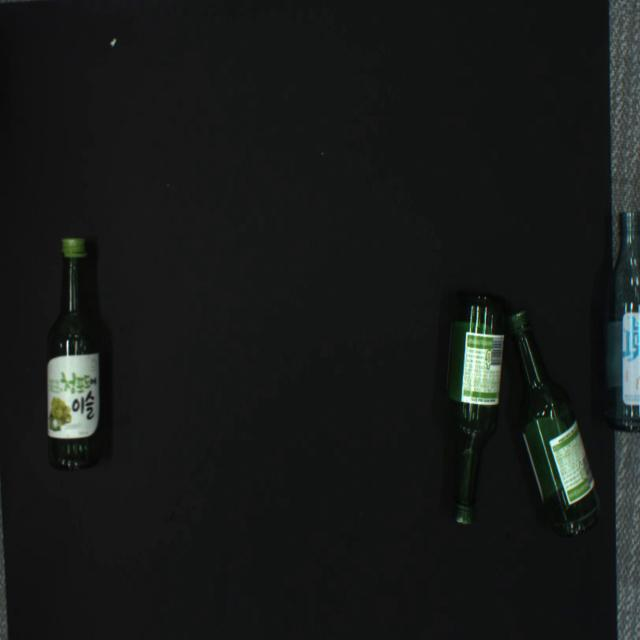soju-bottle: (506, 310, 601, 536), (445, 292, 506, 524), (47, 238, 101, 471), (604, 210, 640, 431)
